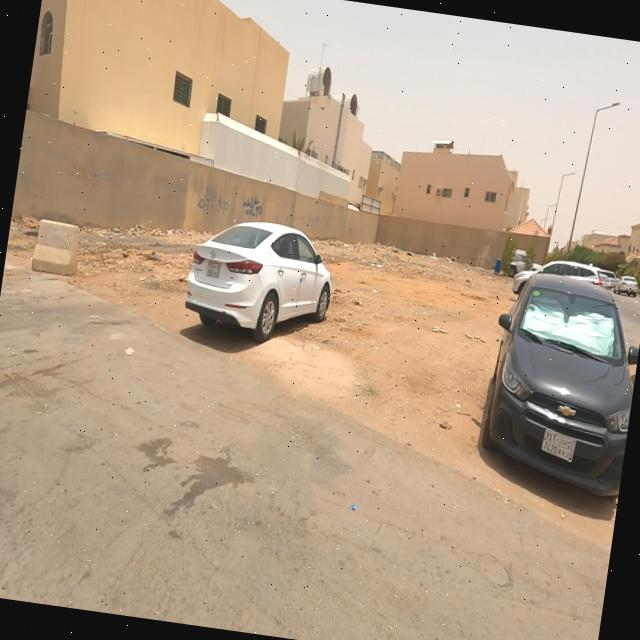Graffiti: (63, 162, 106, 192), (198, 184, 232, 217), (240, 195, 264, 219)
